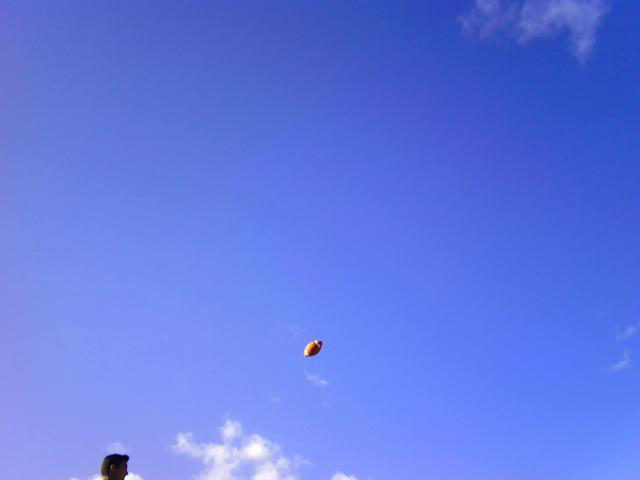football: (300, 333, 327, 361)
